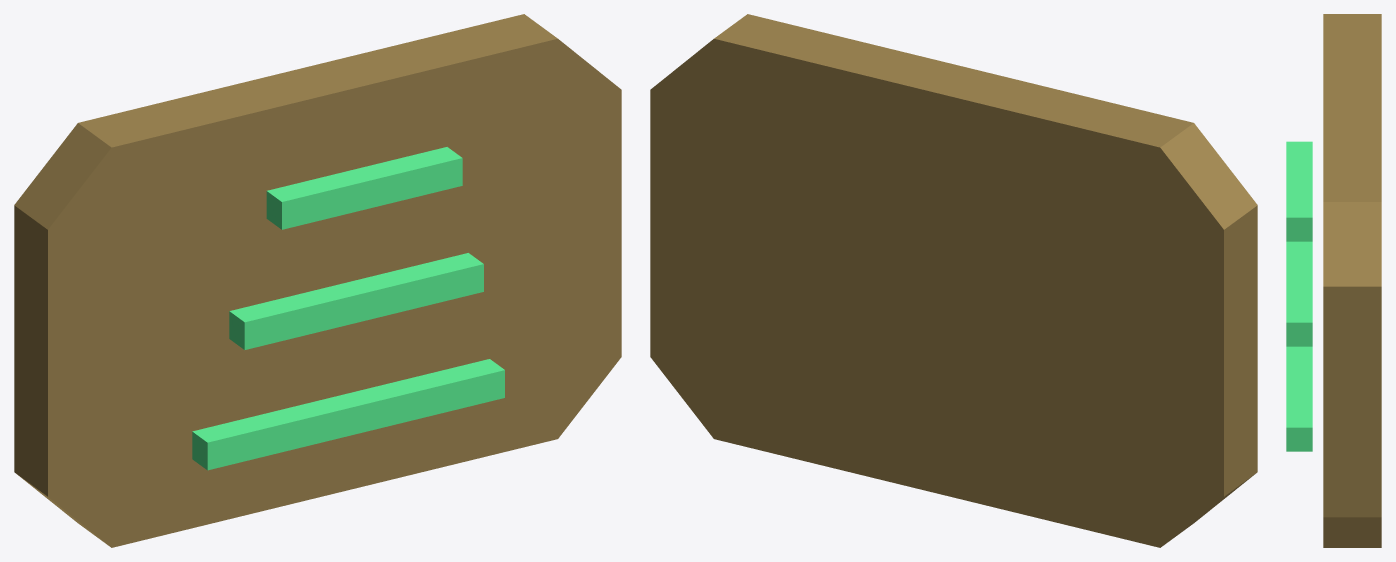
Rendered from heaven_script.obj.
The picture shows the model from 3 angles, left to right: view 1: azimuth 30°, elevation 25°; view 2: azimuth 150°, elevation 25°; view 3: azimuth 270°, elevation 25°; orthographic projection. The views are drawn at different scales.
Visible parts, largest first — view 1: script_plate, script_plate_edge, heaven_script_0, heaven_script_1, heaven_script_2, heaven_script_0_edge, heaven_script_1_edge, heaven_script_2_edge; view 2: script_plate, script_plate_edge; view 3: script_plate_edge, heaven_script_0_edge, heaven_script_1_edge, heaven_script_2_edge.
Part boxes in pixels (x1=…): script_plate: x1=48, y1=39, x2=621, y2=547; script_plate_edge: x1=14, y1=14, x2=557, y2=545; heaven_script_0: x1=207, y1=370, x2=504, y2=470; heaven_script_1: x1=244, y1=264, x2=483, y2=349; heaven_script_2: x1=282, y1=158, x2=462, y2=229; heaven_script_0_edge: x1=192, y1=359, x2=504, y2=470; heaven_script_1_edge: x1=229, y1=253, x2=483, y2=349; heaven_script_2_edge: x1=266, y1=147, x2=461, y2=229; script_plate: x1=650, y1=39, x2=1223, y2=547; script_plate_edge: x1=714, y1=14, x2=1257, y2=545; script_plate_edge: x1=1323, y1=14, x2=1381, y2=547; heaven_script_0_edge: x1=1286, y1=346, x2=1312, y2=451; heaven_script_1_edge: x1=1286, y1=241, x2=1312, y2=346; heaven_script_2_edge: x1=1286, y1=141, x2=1312, y2=241.
Bounding box in the file's own units: 0.54 × 0.36 × 0.09.
